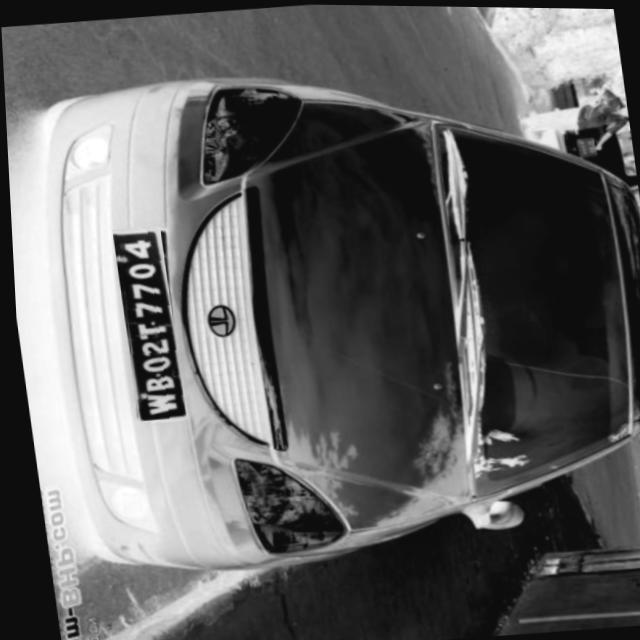Non_registered: (108, 225, 181, 421)
